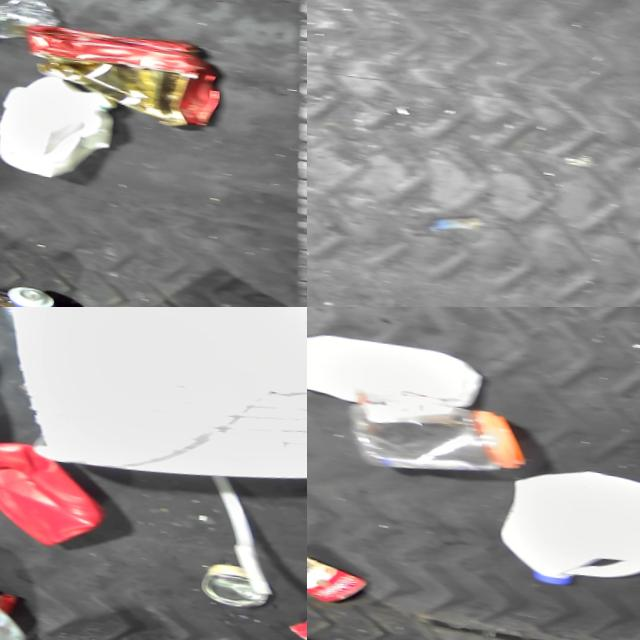can: (186, 551, 266, 606), (307, 542, 358, 607), (0, 281, 53, 307)
milk_jug: (474, 447, 640, 601), (307, 313, 486, 417), (0, 64, 120, 187)
non_white_jug: (0, 422, 108, 550)
plastic_bottle: (0, 0, 61, 51)
